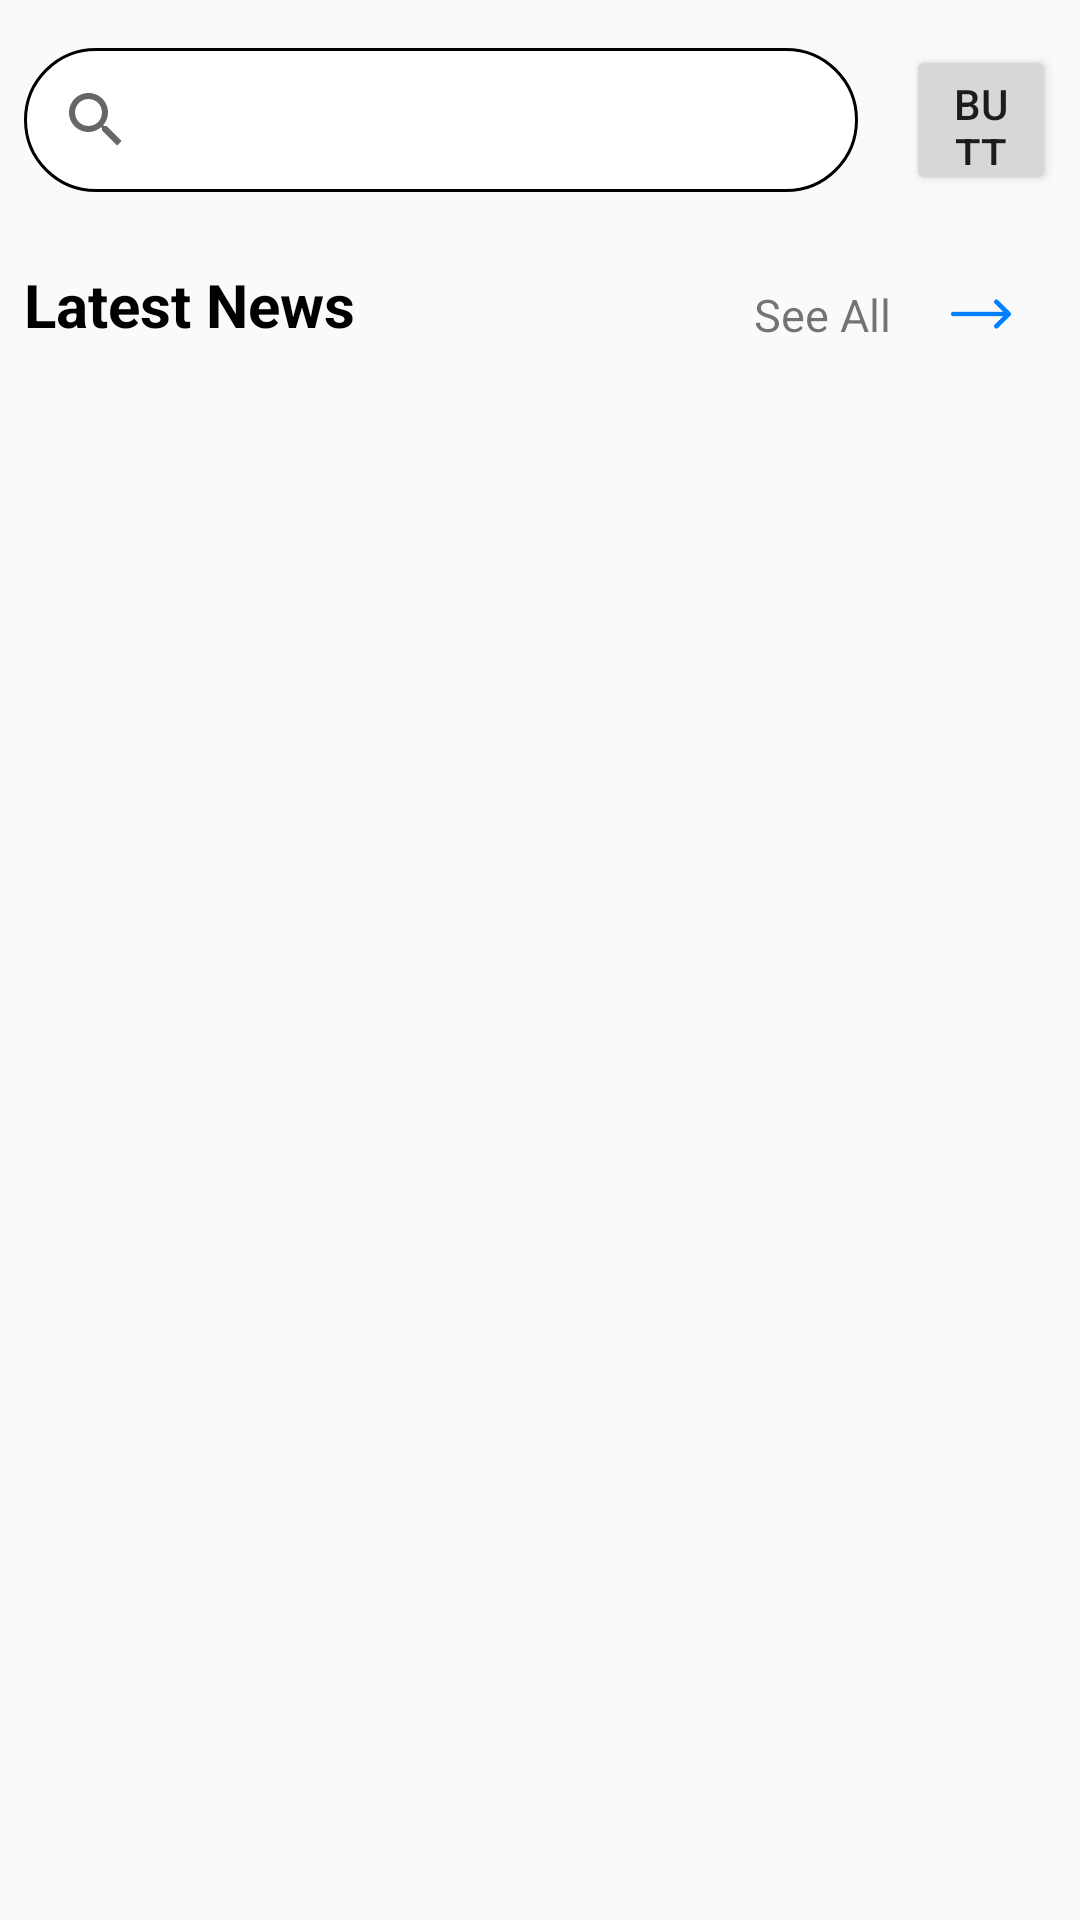

Named icons in this screenshot (1080w x 1920h) and their centers, (x=x, y=y):
arrow: (x=981, y=314)
